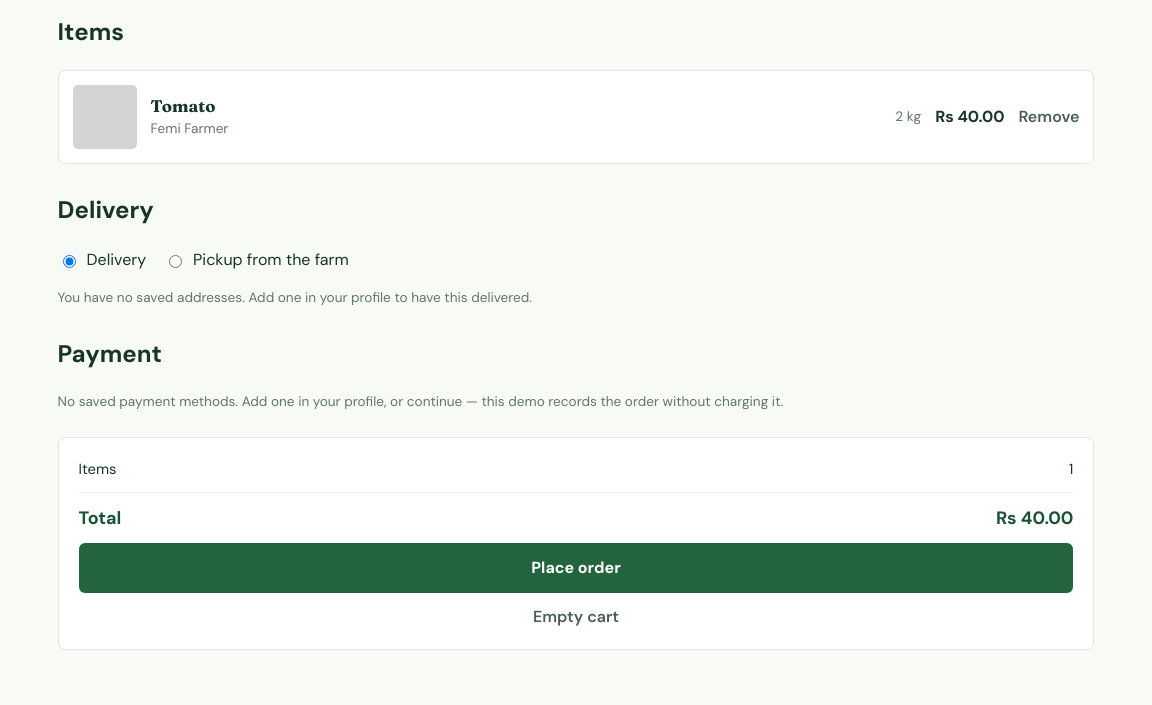
Test case: Checkout payload › will not place a delivery with no address chosen
(page scrolled)
Click the button "Place order": (576, 568) [79,544,1073,594]
(page scrolled)
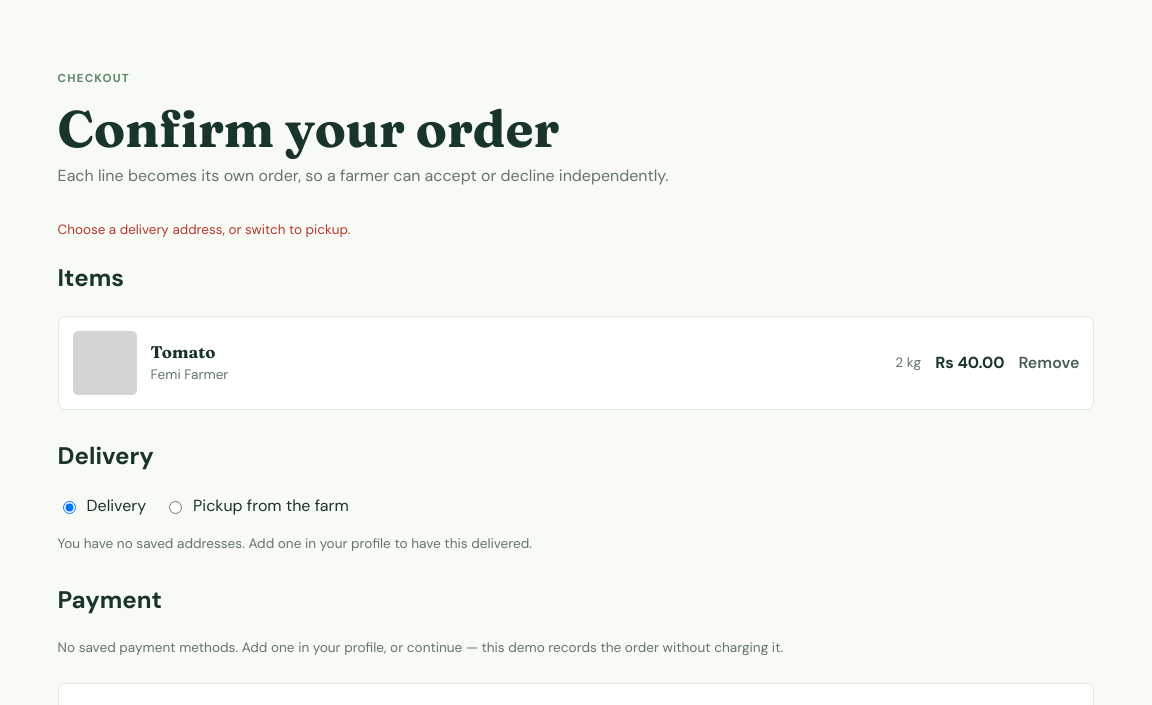
Now the text "Choose a delivery address, or switch to pickup." is shown, box [58,221,350,238]
